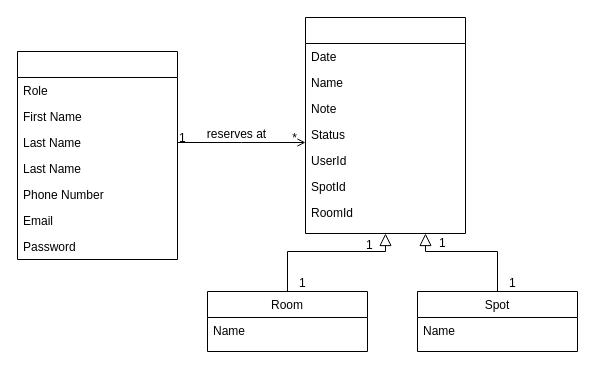
Some shapes in this 595 by 372 pixel diagram are drawn without their labels. The box of each missing label's shape, as (x1, y1, x2, y2) in pixels:
Reservation: (304, 16, 466, 234)
User: (16, 50, 178, 260)
